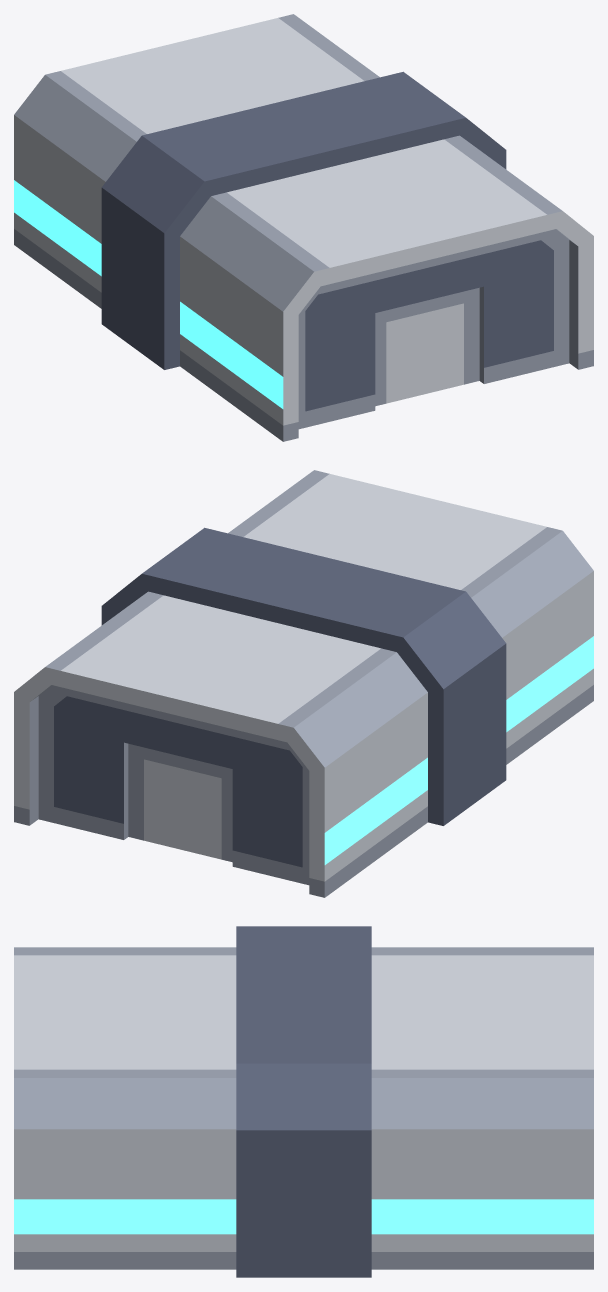
Rendered from hangar_largeB.glb.
The picture shows the model from 3 angles, top to bottom: view 1: azimuth 30°, elevation 25°; view 2: azimuth 150°, elevation 25°; view 3: azimuth 270°, elevation 25°; orthographic projection. The views are drawn at different scales.
Visible parts, largest first — view 1: hangar_largeB, gate; view 2: hangar_largeB, gate; view 3: hangar_largeB.
Part boxes in pixels (x1,y1,x2,y2): hangar_largeB: [14, 14, 593, 441]; gate: [298, 229, 569, 429]; hangar_largeB: [14, 470, 593, 897]; gate: [38, 685, 309, 885]; hangar_largeB: [14, 926, 593, 1277].
Bounding box in the file's own units: 2.2 × 1.1 × 3.
